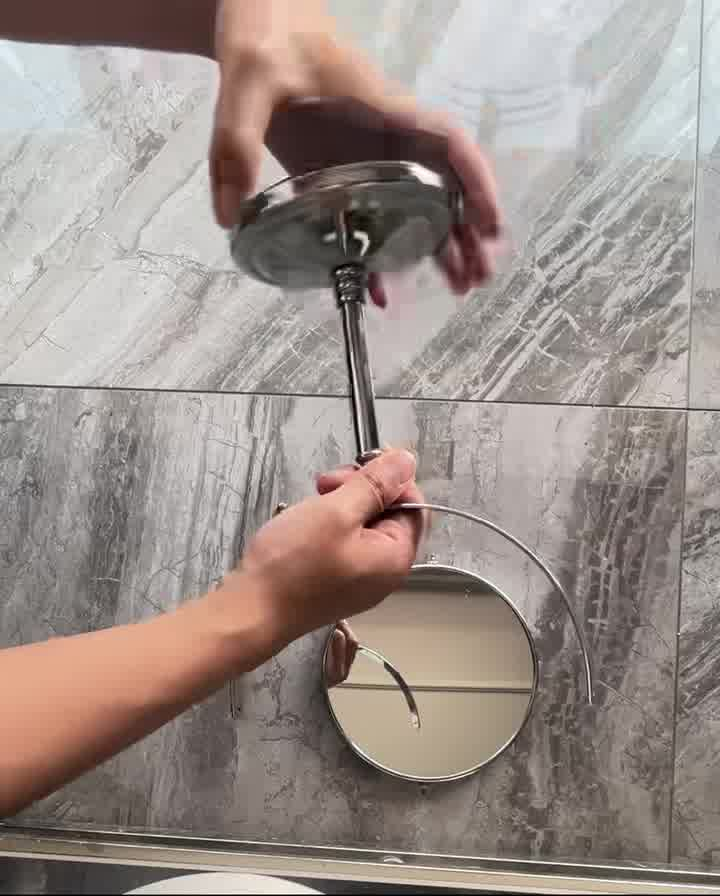base: (194, 159, 513, 287)
frame: (226, 299, 608, 712)
mirror: (295, 565, 560, 795)
screw: (262, 500, 298, 517)
